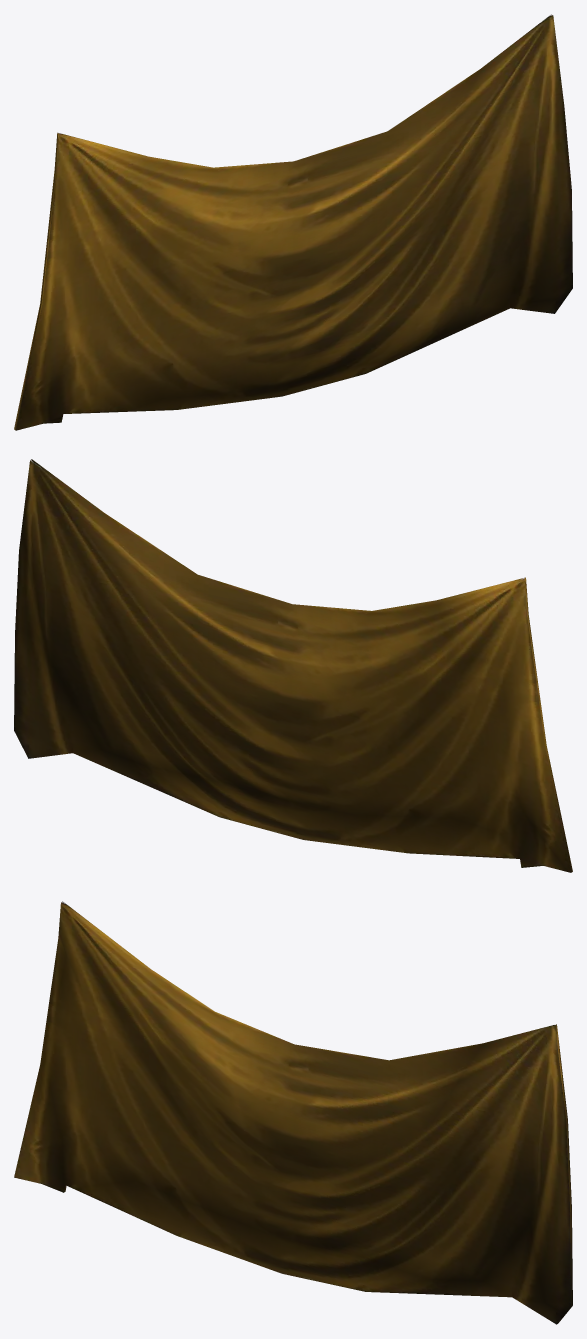
Rendered from GS_VOB_LITTLECURTAIN_06.glb.
3 renders of one model, top to bottom at view 1: azimuth 30°, elevation 25°; view 2: azimuth 150°, elevation 25°; view 3: azimuth 330°, elevation 25°, orthographic.
Parts seen in each view (by area): view 1: Mesh; view 2: Mesh; view 3: Mesh.
Part boxes in pixels (left/top/right/bottom): Mesh: left=14, top=14, right=572, bottom=430; Mesh: left=14, top=459, right=572, bottom=872; Mesh: left=14, top=901, right=572, bottom=1324.
Size of the model in its own units: 1.38 by 0.7467 by 0.0324.
1 material, 1 textured.
